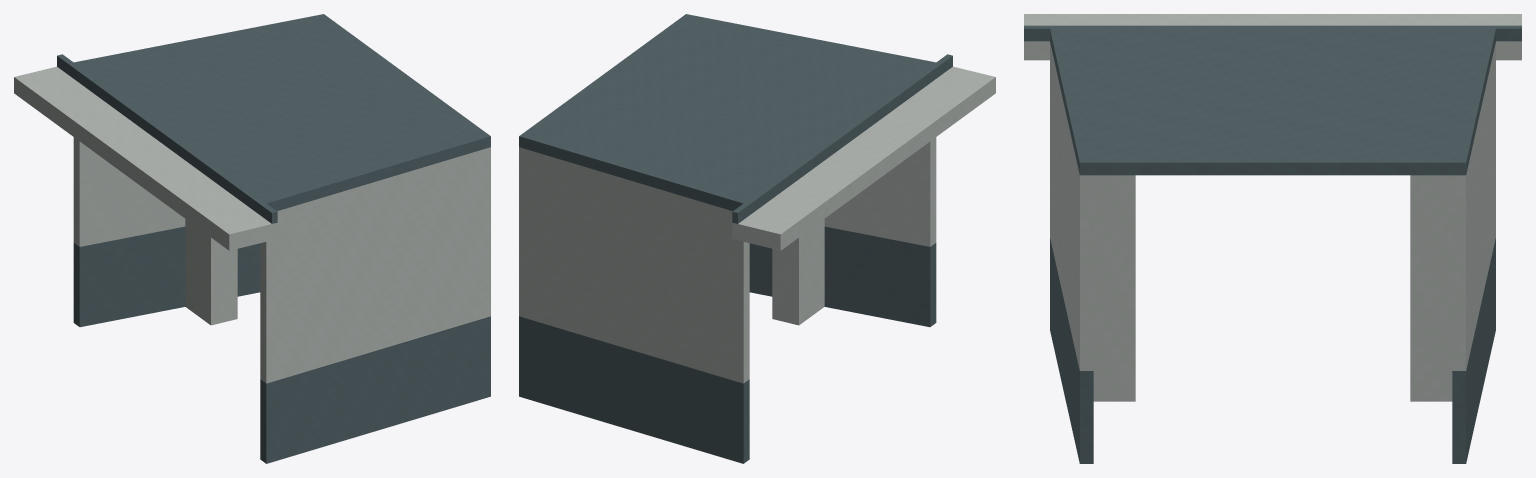
The model's file is AST-STF-G3-023.glb.
3 views of the same model, side by side, from view 1: azimuth 30°, elevation 25°; view 2: azimuth 150°, elevation 25°; view 3: azimuth 270°, elevation 25° (orthographic). The views are drawn at different scales.
Visible parts, largest first — view 1: screen_wall_staff_white_paint_administration_receiver, overhead_staff_bluegrey_paint_administration_receiver, screen_wall_staff_bluegrey_paint_administration_receiver, door_receiver_staff_white_paint_administration_receiver; view 2: screen_wall_staff_white_paint_administration_receiver, overhead_staff_bluegrey_paint_administration_receiver, screen_wall_staff_bluegrey_paint_administration_receiver, door_receiver_staff_white_paint_administration_receiver; view 3: overhead_staff_bluegrey_paint_administration_receiver, screen_wall_staff_white_paint_administration_receiver, door_receiver_staff_white_paint_administration_receiver, screen_wall_staff_bluegrey_paint_administration_receiver.
Part boxes in pixels (bbox=[...]): screen_wall_staff_white_paint_administration_receiver: bbox=[14, 66, 490, 383]; overhead_staff_bluegrey_paint_administration_receiver: bbox=[57, 14, 490, 223]; screen_wall_staff_bluegrey_paint_administration_receiver: bbox=[73, 226, 490, 463]; door_receiver_staff_white_paint_administration_receiver: bbox=[185, 219, 237, 325]; screen_wall_staff_white_paint_administration_receiver: bbox=[519, 66, 995, 383]; overhead_staff_bluegrey_paint_administration_receiver: bbox=[519, 14, 952, 223]; screen_wall_staff_bluegrey_paint_administration_receiver: bbox=[519, 226, 936, 463]; door_receiver_staff_white_paint_administration_receiver: bbox=[772, 219, 824, 325]; overhead_staff_bluegrey_paint_administration_receiver: bbox=[1024, 25, 1521, 175]; screen_wall_staff_white_paint_administration_receiver: bbox=[1024, 14, 1521, 370]; door_receiver_staff_white_paint_administration_receiver: bbox=[1093, 175, 1452, 401]; screen_wall_staff_bluegrey_paint_administration_receiver: bbox=[1050, 238, 1495, 463].
Bounding box in the file's own units: 3.83 × 3.34 × 5.
4 materials, 4 textured.
